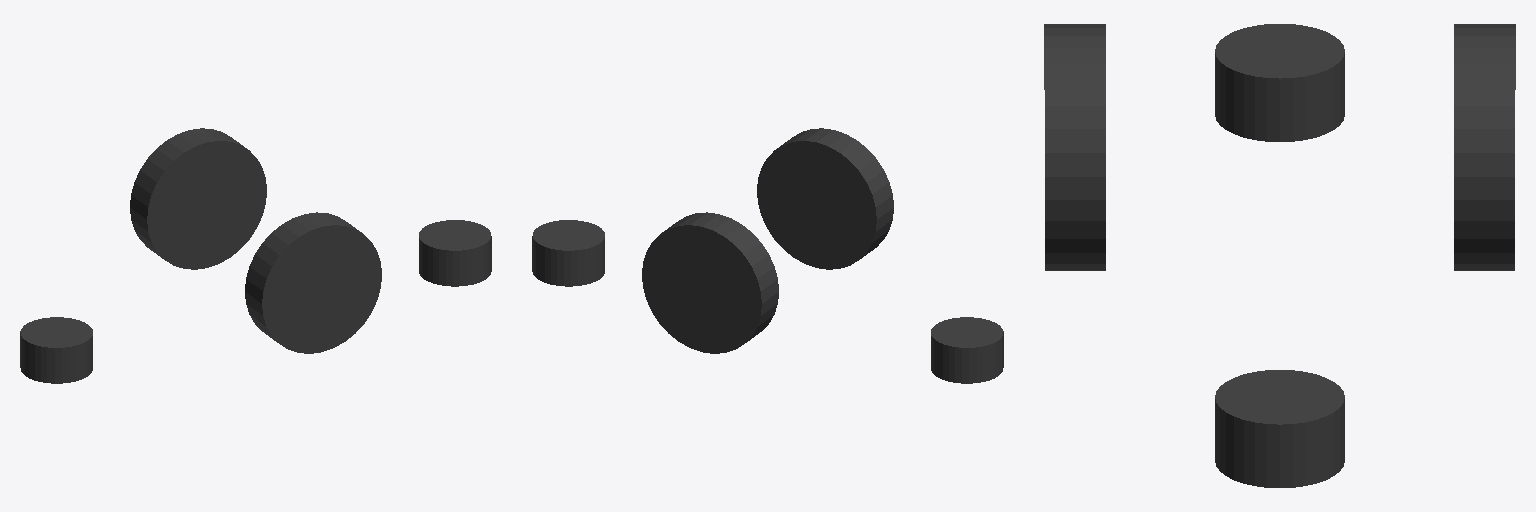
robot.urdf — sendbooster_agv:
<?xml version="1.0"?>
<robot name="sendbooster_agv"
  xmlns:xacro="http://ros.org/wiki/xacro">

  <!-- Material definitions -->
  <material name="black">
    <color rgba="0.0 0.0 0.0 1.0"/>
  </material>
  <material name="dark">
    <color rgba="0.3 0.3 0.3 1.0"/>
  </material>
  <material name="light_black">
    <color rgba="0.4 0.4 0.4 1.0"/>
  </material>

  <!-- Base footprint -->
  <link name="base_footprint"/>

  <joint name="base_joint" type="fixed">
    <parent link="base_footprint"/>
    <child link="base_link"/>
    <origin xyz="0 0 0.11725" rpy="0 0 0"/>
  </joint>

  <!-- Base link -->
  <link name="base_link">
    <visual>
      <origin xyz="0 0 0.11725" rpy="1.57 0 0"/>
      <geometry>
        <mesh filename="package://sendbooster_agv_simulation/models/model_stl/meshes/bases/sendbooster_agv_base.stl" scale="0.001 0.001 0.001"/>
      </geometry>
      <material name="light_black"/>
    </visual>

    <collision>
      <origin xyz="0 0 0.11725" rpy="0 0 0"/>
      <geometry>
        <box size="0.6 0.6 0.3"/>
      </geometry>
    </collision>
  </link>

  <!-- Left wheel -->
  <joint name="wheel_left_joint" type="continuous">
    <parent link="base_link"/>
    <child link="wheel_left_link"/>
    <origin xyz="0 0.16 0.09330" rpy="1.57 0 0"/>
    <axis xyz="0 0 1"/>
  </joint>

  <link name="wheel_left_link">
    <visual>
      <origin xyz="0 0 0" rpy="0 0 0"/>
      <geometry>
                <cylinder radius="0.0965" length="0.048"/>
      </geometry>
      <material name="dark"/>
    </visual>

    <collision>
      <origin xyz="0 0 0" rpy="0 0 0"/>
      <geometry>
        <cylinder radius="0.0965" length="0.048"/>
      </geometry>
    </collision>
  </link>

  <!-- Right wheel -->
  <joint name="wheel_right_joint" type="continuous">
    <parent link="base_link"/>
    <child link="wheel_right_link"/>
    <origin xyz="0 -0.16 0.09330" rpy="-1.57 0 0"/>
    <axis xyz="0 0 1"/>
  </joint>

  <link name="wheel_right_link">
    <visual>
      <origin xyz="0 0 0" rpy="0 0 0"/>
      <geometry>
                <cylinder radius="0.0965" length="0.048"/>
      </geometry>
      <material name="dark"/>
    </visual>

    <collision>
      <origin xyz="0 0 0" rpy="0 0 0"/>
      <geometry>
        <cylinder radius="0.0965" length="0.048"/>
      </geometry>
    </collision>
  </link>

  <!-- IMU -->
  <joint name="imu_joint" type="fixed">
    <parent link="base_link"/>
    <child link="imu_link"/>
    <origin xyz="0 0 0.1" rpy="0 0 0"/>
  </joint>

  <link name="imu_link"/>

  <!-- Front Lidar (RPLIDAR A2M8) -->
  <joint name="lidar_joint" type="fixed">
    <parent link="base_link"/>
    <child link="base_scan"/>
    <origin xyz="0.32 0 0" rpy="0 0 0"/>
  </joint>

  <link name="base_scan">
    <visual>
      <origin xyz="0 0 0" rpy="0 0 0"/>
      <geometry>
        <cylinder radius="0.0508" length="0.055"/>
      </geometry>
      <material name="dark"/>
    </visual>

    <collision>
      <origin xyz="0 0 0" rpy="0 0 0"/>
      <geometry>
        <cylinder radius="0.0508" length="0.055"/>
      </geometry>
    </collision>
  </link>

  <!-- Back Lidar (RPLIDAR A2M8) - rotated 180° to face backward -->
  <joint name="lidar_joint_back" type="fixed">
    <parent link="base_link"/>
    <child link="base_scan_back"/>
    <origin xyz="-0.32 0 0" rpy="0 0 3.14159"/>
  </joint>

  <link name="base_scan_back">
    <visual>
      <origin xyz="0 0 0" rpy="0 0 0"/>
      <geometry>
        <cylinder radius="0.0508" length="0.055"/>
      </geometry>
      <material name="dark"/>
    </visual>

    <collision>
      <origin xyz="0 0 0" rpy="0 0 0"/>
      <geometry>
        <cylinder radius="0.0508" length="0.055"/>
      </geometry>
    </collision>
  </link>

</robot>

--- Facts derived from the render (not from the file) ---
3 views of the same robot in one strip: view 1: azimuth 30°, elevation 25°; view 2: azimuth 150°, elevation 25°; view 3: azimuth 270°, elevation 25° (orthographic).
Model sendbooster_agv with 7 links and 6 joints (2 continuous, 4 fixed), rooted at base_footprint, posed all joints at 0.
Links seen in each view (by area): view 1: wheel_left_link, wheel_right_link, base_scan, base_scan_back; view 2: wheel_right_link, wheel_left_link, base_scan, base_scan_back; view 3: wheel_left_link, wheel_right_link, base_scan, base_scan_back.
Boxes of the visible links, left/top/right/bottom form: wheel_left_link: left=130, top=128, right=266, bottom=269; wheel_right_link: left=245, top=212, right=381, bottom=353; base_scan: left=419, top=220, right=491, bottom=286; base_scan_back: left=20, top=317, right=92, bottom=383; wheel_right_link: left=757, top=128, right=893, bottom=269; wheel_left_link: left=642, top=212, right=778, bottom=353; base_scan: left=532, top=220, right=604, bottom=286; base_scan_back: left=931, top=317, right=1003, bottom=383; wheel_left_link: left=1454, top=24, right=1515, bottom=270; wheel_right_link: left=1044, top=24, right=1105, bottom=270; base_scan: left=1215, top=370, right=1344, bottom=487; base_scan_back: left=1215, top=24, right=1344, bottom=141.
Size in the robot's own frame: 0.7416 by 0.3682 by 0.2173 metres.
0 mesh visuals loaded from 1 distinct referenced files (none loaded); not drawn: 1 (reference not matched to a file when rendering).